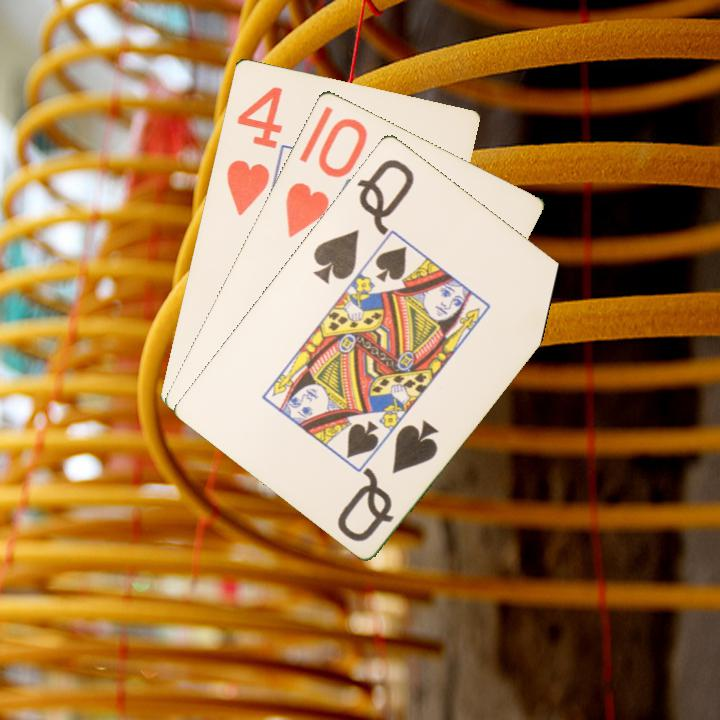10h: (281, 113, 370, 241)
4h: (222, 82, 285, 218)
Qs: (309, 154, 418, 286), (333, 415, 442, 545)
